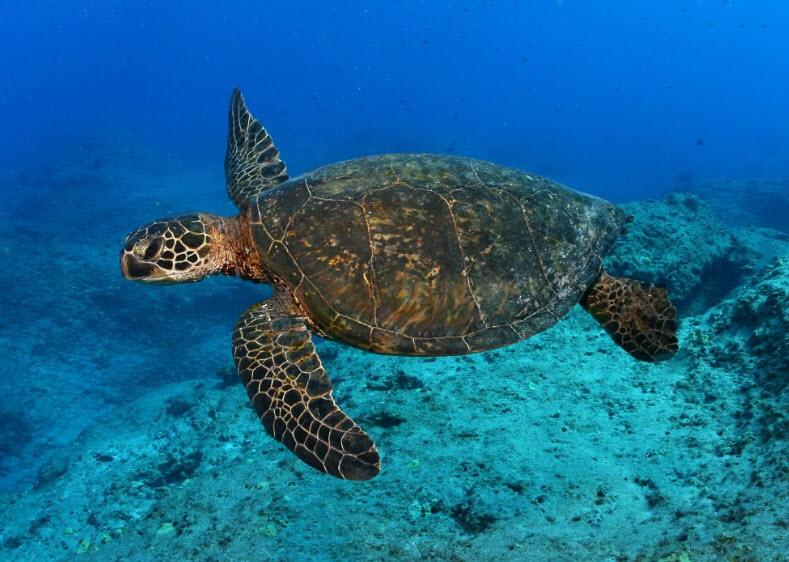turtle: (114, 206, 218, 294)
